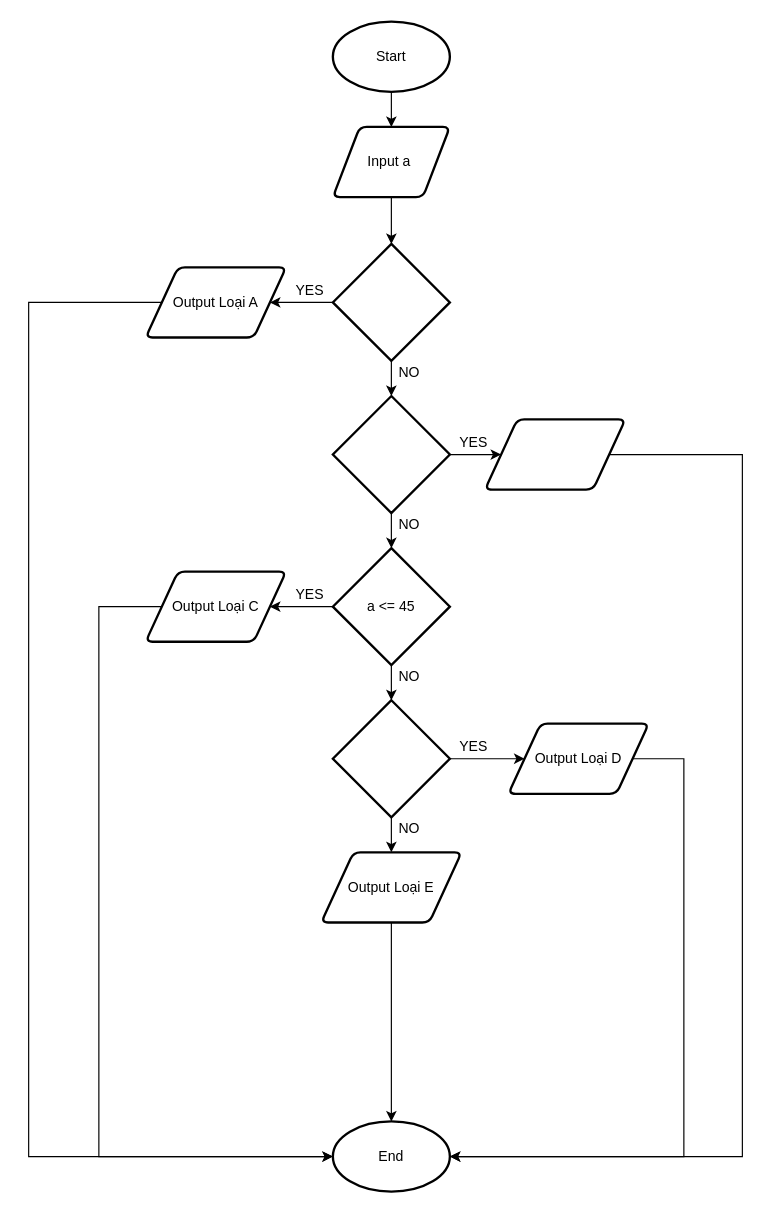
Some shapes in this 772 by 1212 pixel diagram are drawn without their labels. The centre of each missing label's shape, as x and y in pixels:
a <= 35: pixel 390 758
a <= 60: pixel 390 454
a >= 75: pixel 390 302
Output Loại B: pixel 554 454
